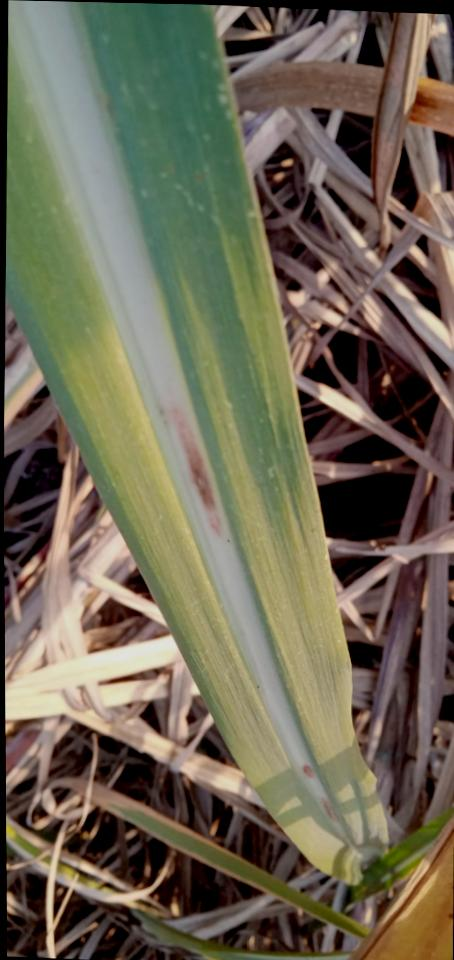RedRot: (161, 404, 225, 540), (302, 763, 341, 824)
